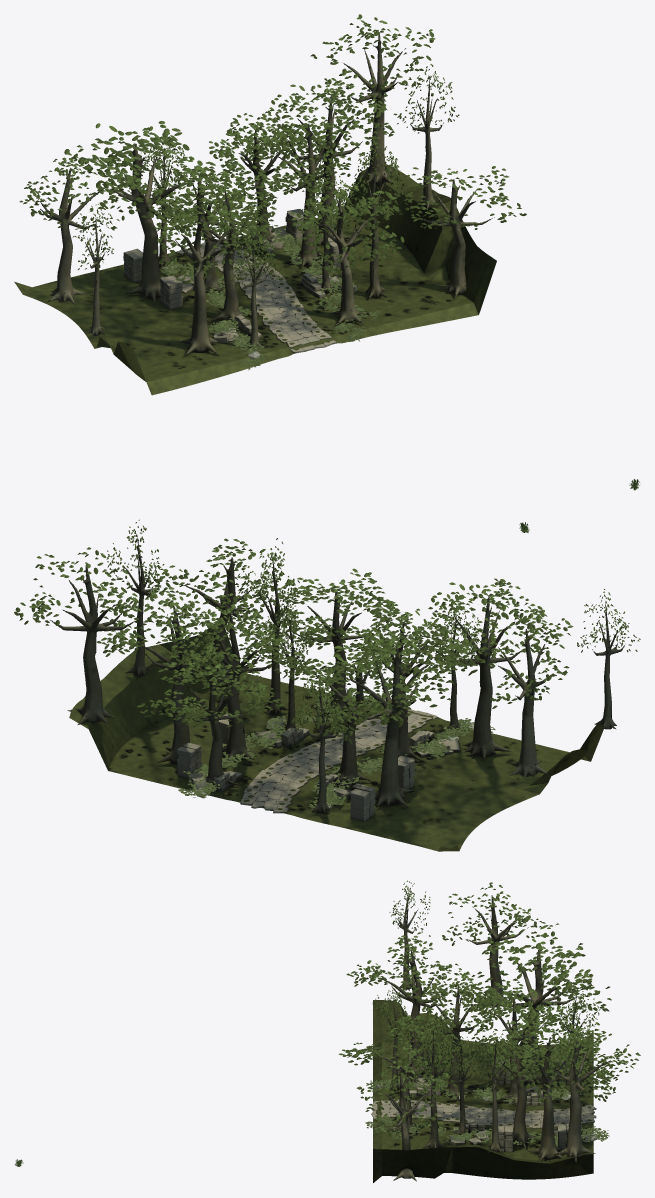
Rendered from forest-approach.glb.
3 renders of one model, top to bottom at view 1: azimuth 30°, elevation 25°; view 2: azimuth 150°, elevation 25°; view 3: azimuth 270°, elevation 25°, orthographic. The views are drawn at different scales.
Visible parts, largest first — view 1: ForestApproach_Foliage, ForestApproach_Ground, ForestApproach_Wood, ForestApproach_Stone, PD11_Foliage_forest-approach; view 2: ForestApproach_Foliage, ForestApproach_Ground, ForestApproach_Wood, ForestApproach_Stone, PD11_Foliage_forest-approach; view 3: ForestApproach_Foliage, ForestApproach_Ground, ForestApproach_Wood, ForestApproach_Stone, PD11_Foliage_forest-approach.
Part boxes in pixels (left/top/right/bottom): ForestApproach_Foliage: left=19, top=14, right=526, bottom=286; ForestApproach_Ground: left=14, top=164, right=496, bottom=395; ForestApproach_Wood: left=35, top=32, right=494, bottom=355; ForestApproach_Stone: left=123, top=209, right=357, bottom=353; PD11_Foliage_forest-approach: left=161, top=217, right=380, bottom=370; ForestApproach_Foliage: left=14, top=519, right=640, bottom=744; ForestApproach_Ground: left=69, top=628, right=603, bottom=851; ForestApproach_Wood: left=50, top=535, right=624, bottom=813; ForestApproach_Stone: left=177, top=709, right=460, bottom=821; PD11_Foliage_forest-approach: left=178, top=693, right=495, bottom=809; ForestApproach_Foliage: left=338, top=880, right=640, bottom=1136; ForestApproach_Ground: left=373, top=1000, right=593, bottom=1182; ForestApproach_Wood: left=377, top=889, right=610, bottom=1181; ForestApproach_Stone: left=371, top=1058, right=596, bottom=1151; PD11_Foliage_forest-approach: left=365, top=1076, right=609, bottom=1147.
Size of what is drawn, in the model's own units: 51.16 by 21.85 by 71.02.
Materials: 10 (3 with a texture image).
